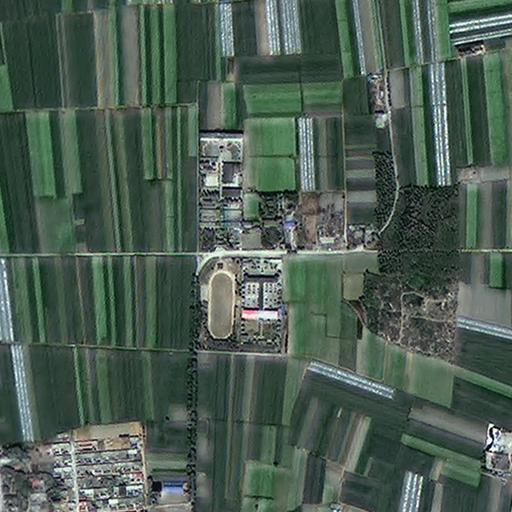school: (198, 252, 285, 347)
